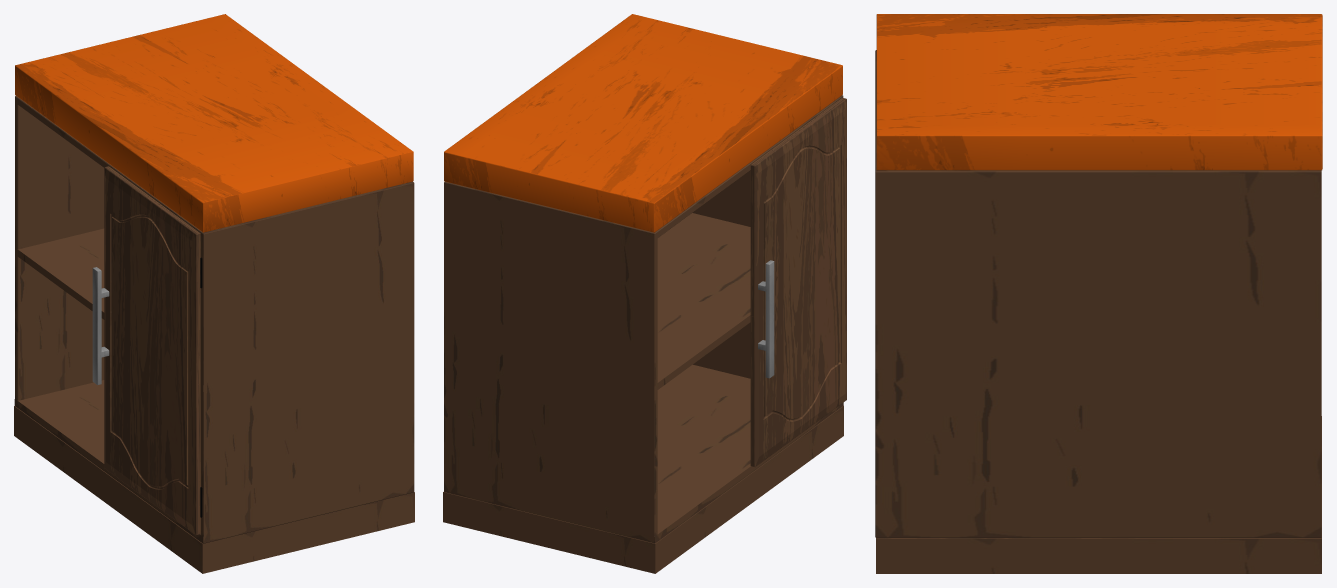
The model's file is bot - cab - one door.fbx.
3 renders of one model, left to right at view 1: azimuth 30°, elevation 25°; view 2: azimuth 150°, elevation 25°; view 3: azimuth 270°, elevation 25°, orthographic. The views are drawn at different scales.
Visible parts, largest first — view 1: Top - Cab - bottom004, cab - door014; view 2: Top - Cab - bottom004, cab - door014; view 3: Top - Cab - bottom004.
Part boxes in pixels (left/top/right/bottom): Top - Cab - bottom004: left=14, top=14, right=414, bottom=573; cab - door014: left=92, top=166, right=200, bottom=535; Top - Cab - bottom004: left=443, top=14, right=843, bottom=573; cab - door014: left=750, top=97, right=846, bottom=466; Top - Cab - bottom004: left=875, top=14, right=1322, bottom=573.
Size of the model in its own units: 106 by 163 by 150.
